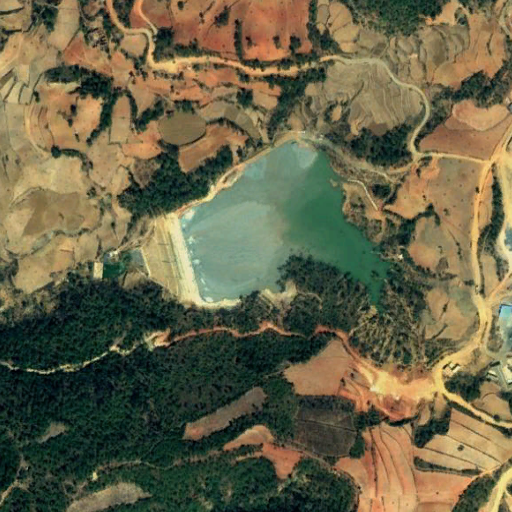tp: (139, 139, 391, 312)
